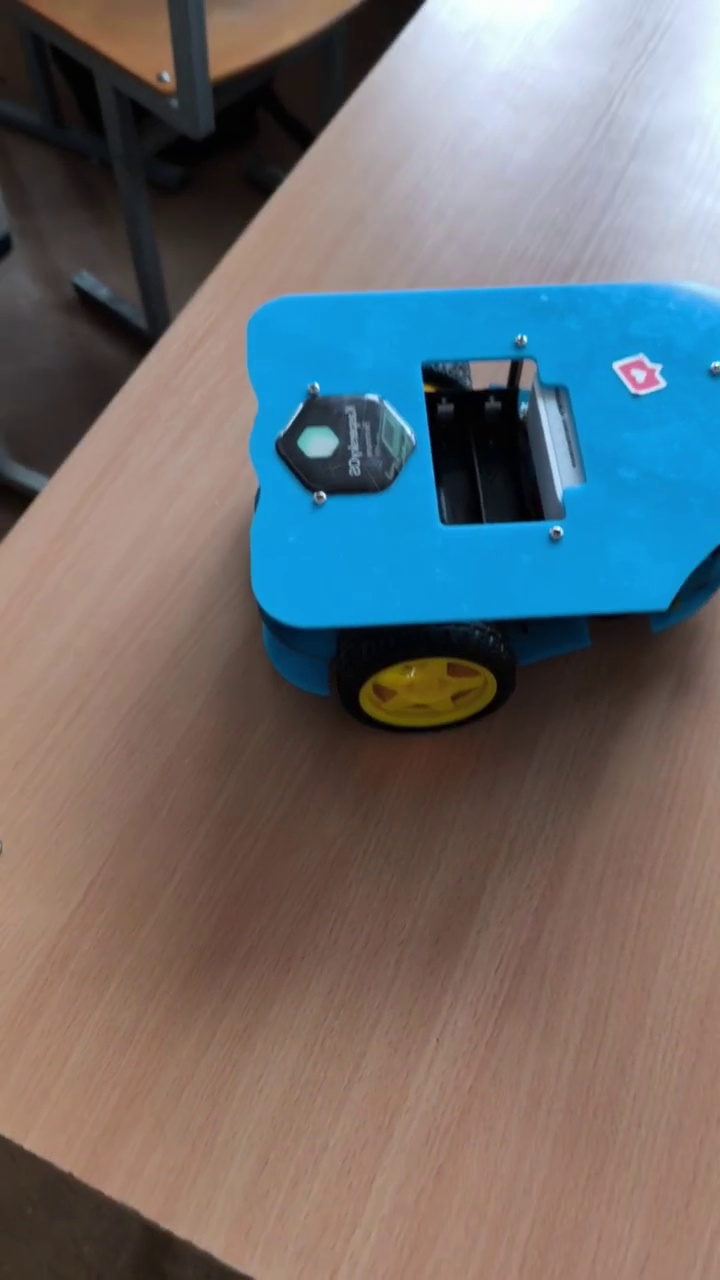robot: (245, 279, 720, 736)
